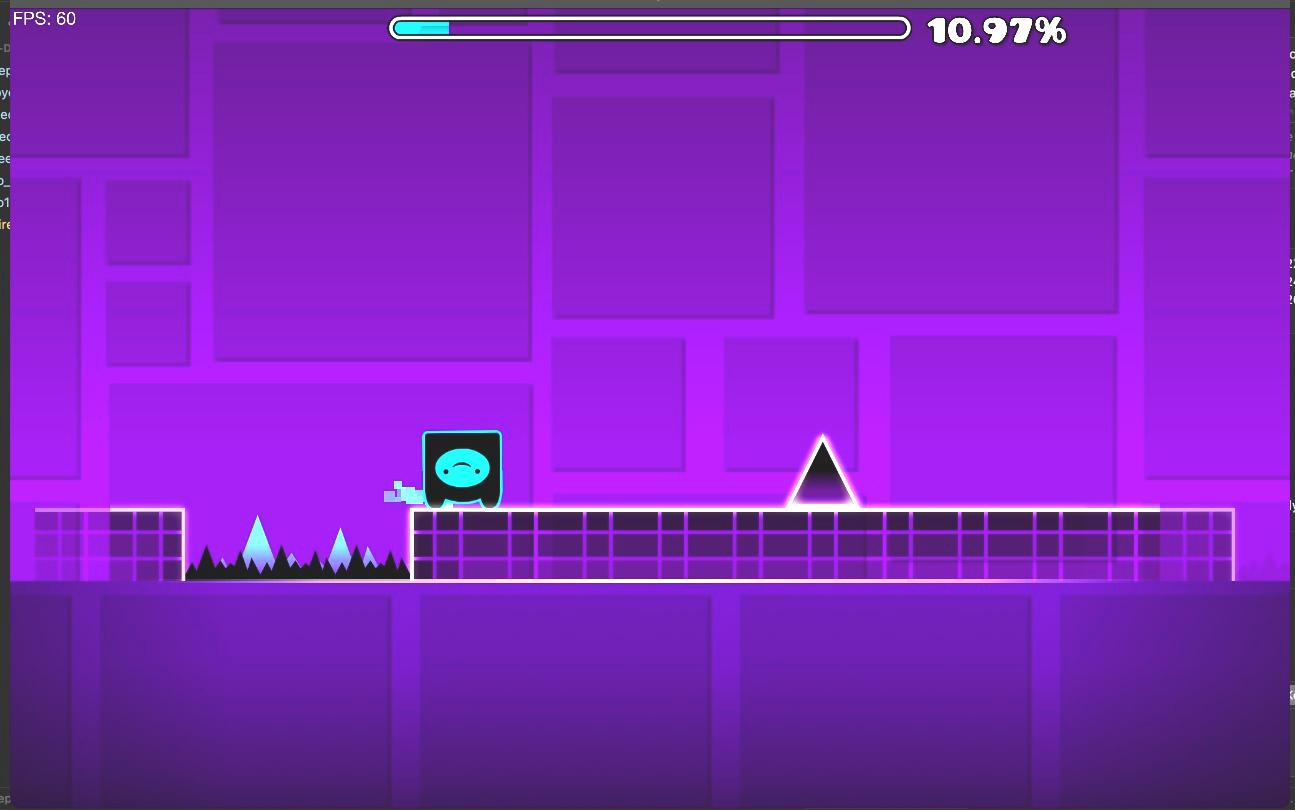block: (413, 507, 1233, 585), (34, 513, 183, 584)
player: (422, 430, 502, 507)
spike: (215, 517, 407, 578), (788, 435, 858, 505)
